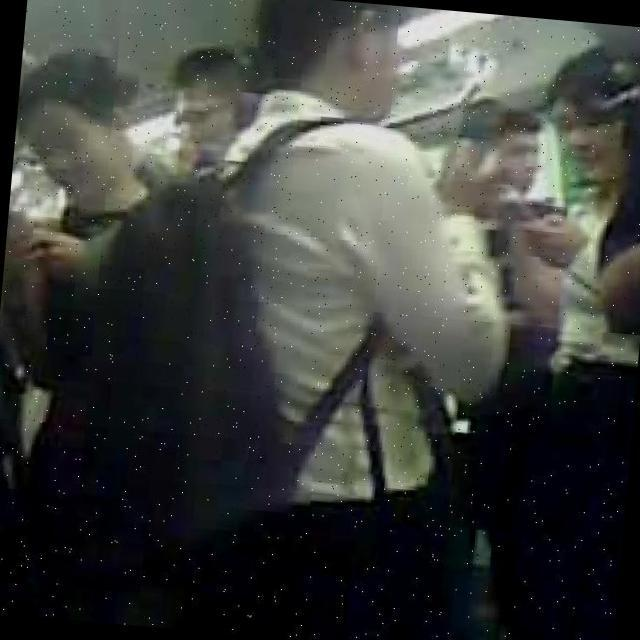person: (166, 0, 530, 640), (0, 39, 154, 502), (525, 33, 640, 467), (147, 35, 259, 208), (584, 55, 640, 331), (448, 94, 549, 230)
